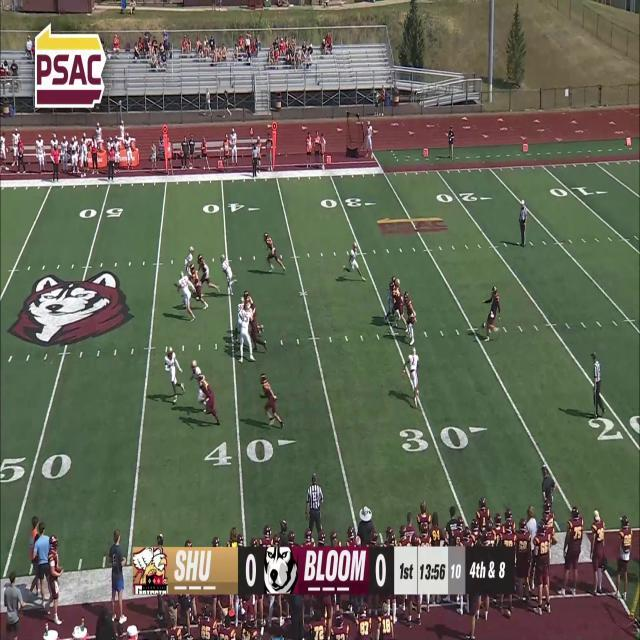football: (480, 321, 486, 328)
